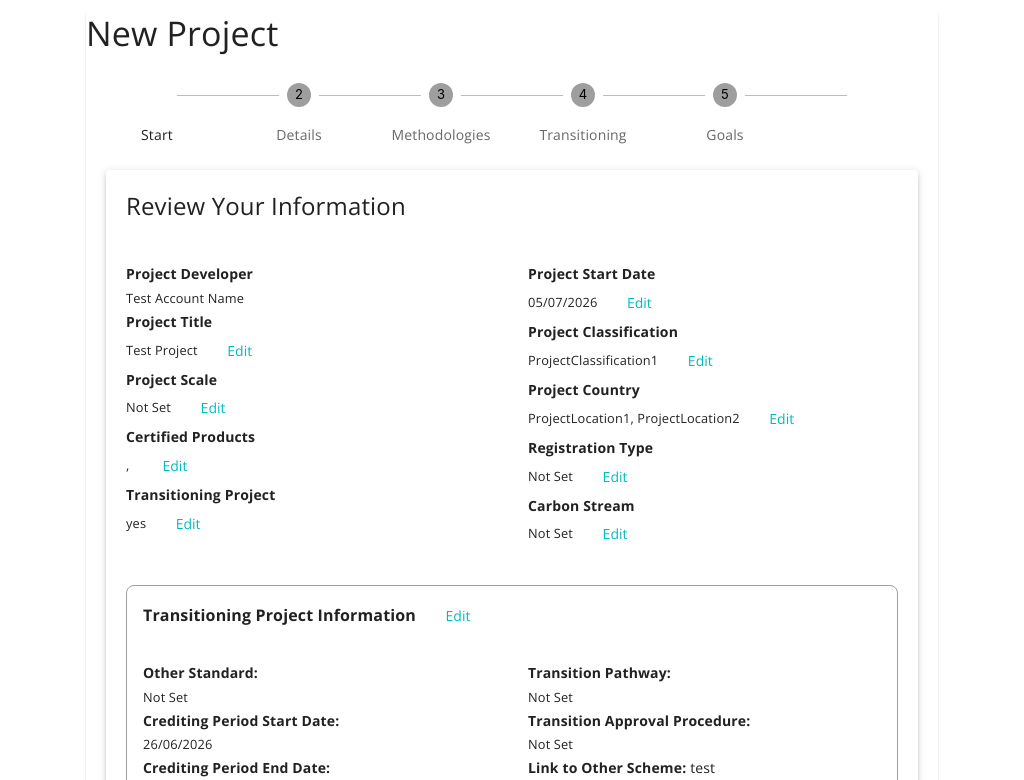
Test case: CreateProject › when edit field is clicked correct step is displayed {"id":"Project Scale","expectedText":"Project Scale","comboBox":true}
Expected: the heading "Review Your Information" is shown, [126,189,406,222]
Click the button with test id "Project Scale".
click(213, 409)  # box [181,394,245,423]
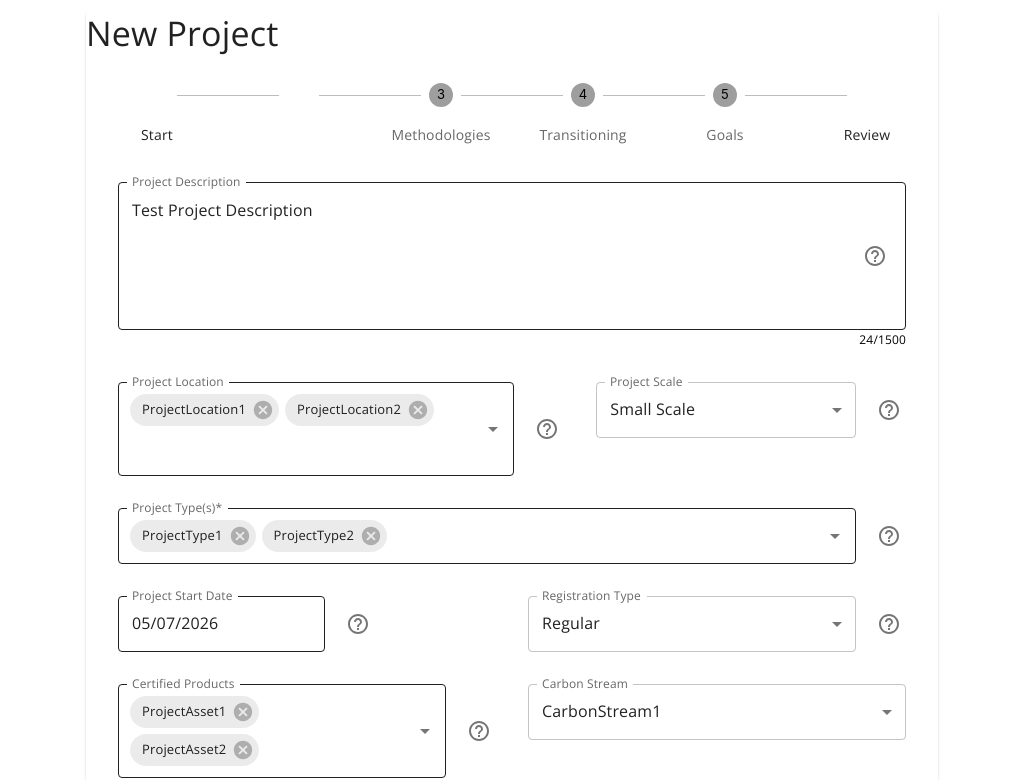
Expected: the dropdown named "Project Scale" is shown, [610,398,695,420]
